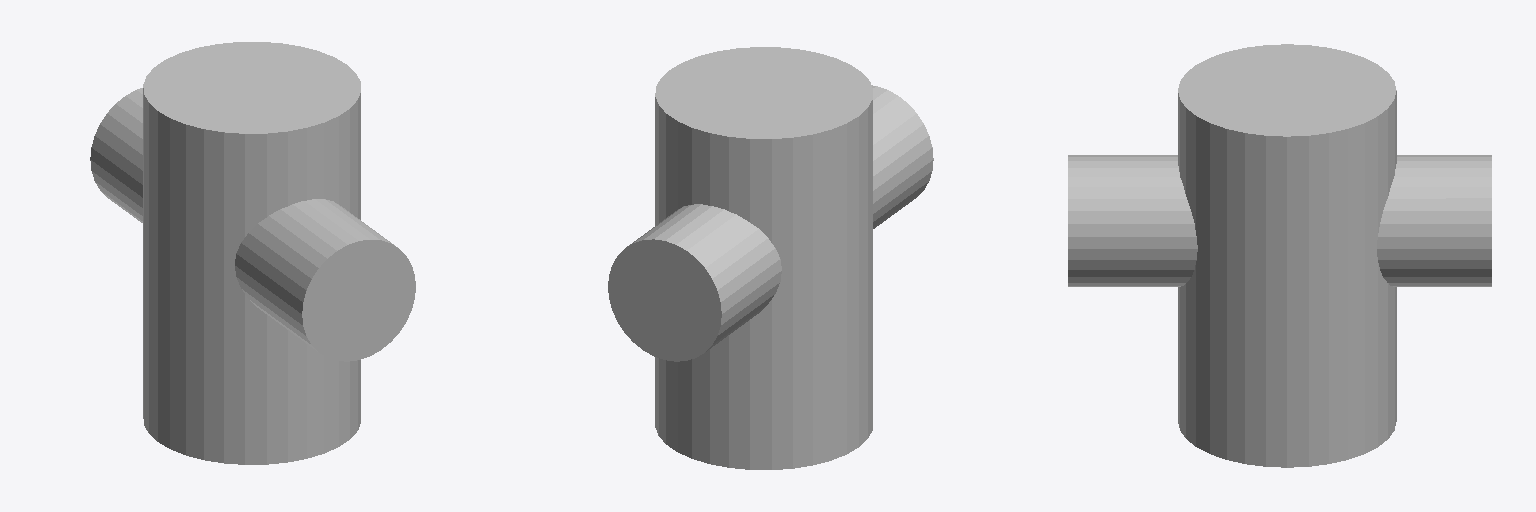
File: two_cylinder_connect.obj
3 views of the same model, side by side, from view 1: azimuth 30°, elevation 25°; view 2: azimuth 150°, elevation 25°; view 3: azimuth 270°, elevation 25° (orthographic).
Visible parts, largest first — view 1: Cylinder_Cylinder.002; view 2: Cylinder_Cylinder.002; view 3: Cylinder_Cylinder.002.
Boxes of the visible parts, x1,y1,x2,y2 form: Cylinder_Cylinder.002: [90, 42, 415, 464]; Cylinder_Cylinder.002: [608, 47, 933, 469]; Cylinder_Cylinder.002: [1068, 44, 1491, 467].
Bounding box in the file's own units: 1.22 × 2.04 × 2.37.